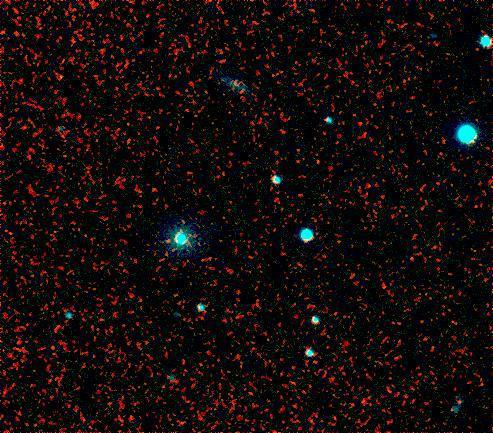star: (443, 384, 473, 414)
